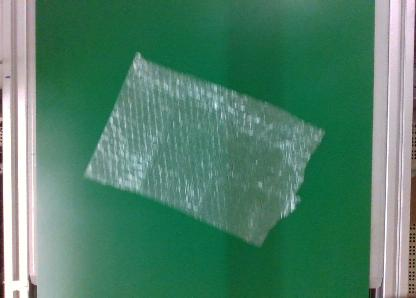Others: (81, 47, 327, 266)
